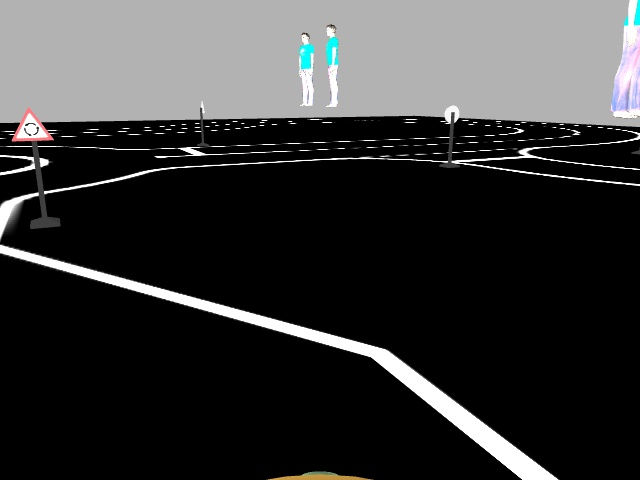Roundabout: (10, 105, 54, 141)
